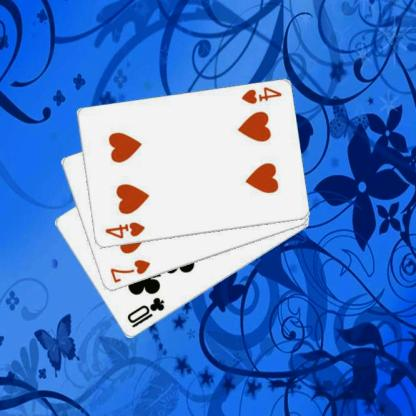10C: (124, 295, 166, 329)
4H: (239, 84, 282, 106), (102, 220, 146, 240)
7H: (107, 257, 152, 285)
